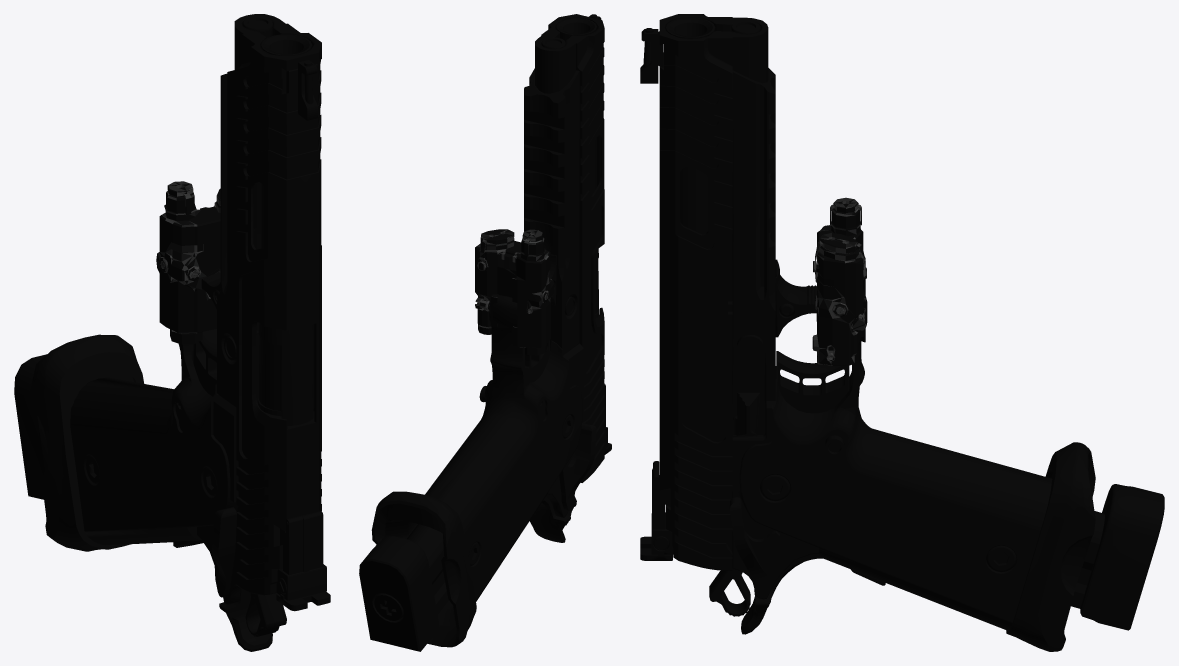
The model's file is SpringfieldProdigy__Laser_Pistol.fbx.
The picture shows the model from 3 angles, left to right: view 1: azimuth 30°, elevation 25°; view 2: azimuth 150°, elevation 25°; view 3: azimuth 270°, elevation 25°; orthographic projection. The views are drawn at different scales.
Visible parts, largest first — view 1: asset_SpringfieldProdigy.001; view 2: asset_SpringfieldProdigy.001; view 3: asset_SpringfieldProdigy.001.
Boxes of the visible parts, x1,y1,x2,y2 form: asset_SpringfieldProdigy.001: [14, 14, 330, 651]; asset_SpringfieldProdigy.001: [359, 14, 611, 651]; asset_SpringfieldProdigy.001: [640, 14, 1164, 651].
Bounding box in the file's own units: 0.0209 × 0.1332 × 0.1029.
